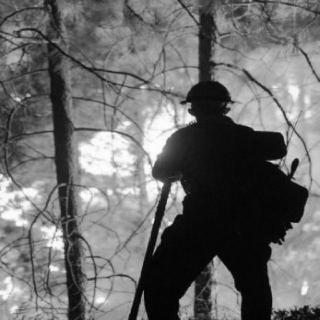Fire: (1, 175, 67, 307), (275, 71, 309, 135)
